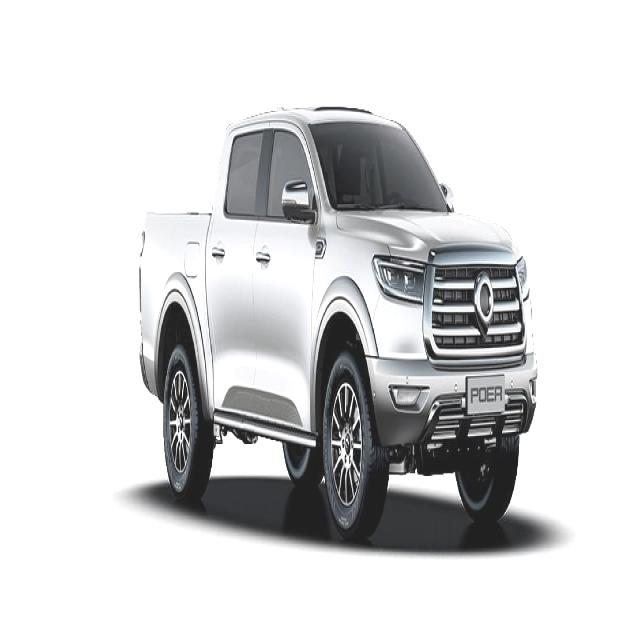CMT: (135, 110, 533, 526)
